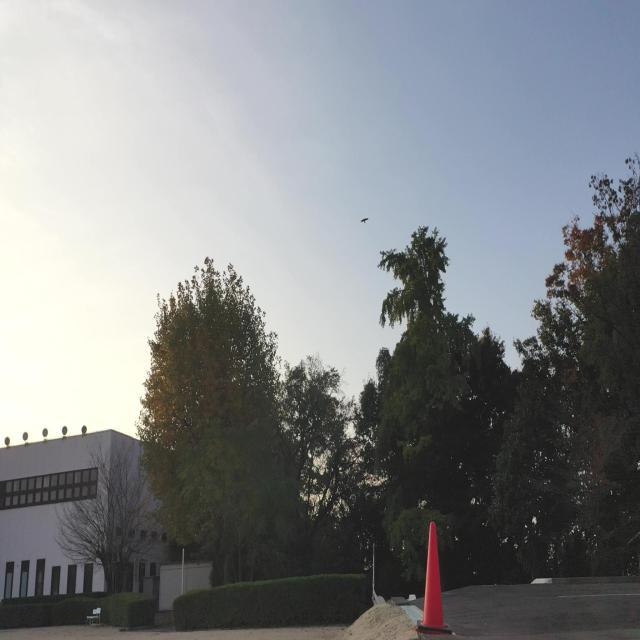Birds: (360, 214, 370, 226)
